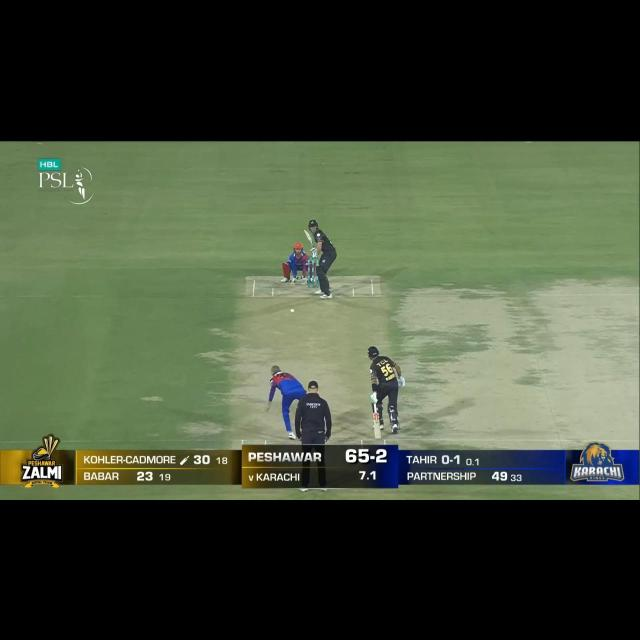bat: (373, 413, 382, 440), (304, 229, 314, 247)
toe: (373, 433, 382, 439), (302, 230, 308, 235)
